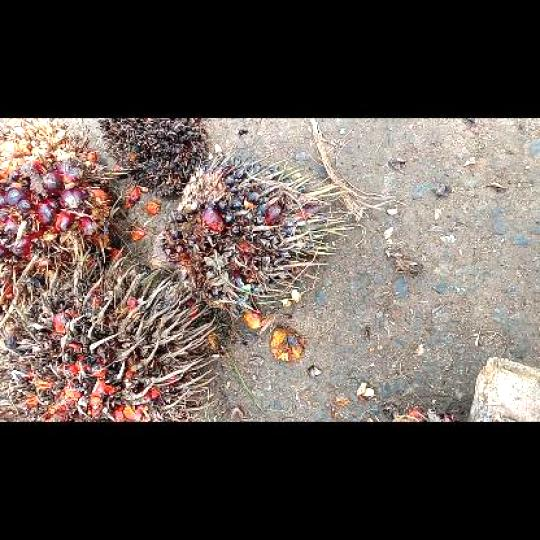masak: (0, 119, 119, 311)
terlalu masak: (0, 252, 210, 419)
